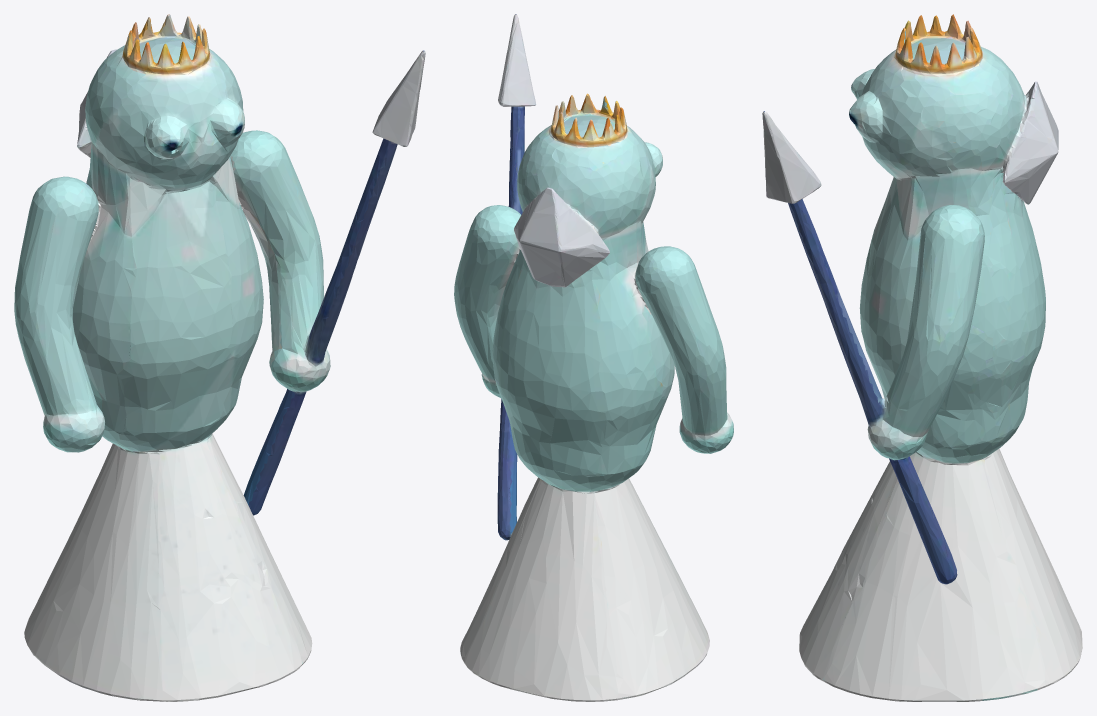
The model's file is creature-033.lod.glb.
3 renders of one model, left to right at view 1: azimuth 30°, elevation 25°; view 2: azimuth 150°, elevation 25°; view 3: azimuth 270°, elevation 25°, orthographic. The views are drawn at different scales.
Parts seen in each view (by area): view 1: tmpp2azejtu.ply; view 2: tmpp2azejtu.ply; view 3: tmpp2azejtu.ply.
Part boxes in pixels (x1,y1,x2,y2): tmpp2azejtu.ply: (14,14,425,701); tmpp2azejtu.ply: (454,14,733,701); tmpp2azejtu.ply: (762,14,1082,701).
Bounding box in the file's own units: 1.1 × 1.99 × 0.9375.
1 material, 1 textured.
